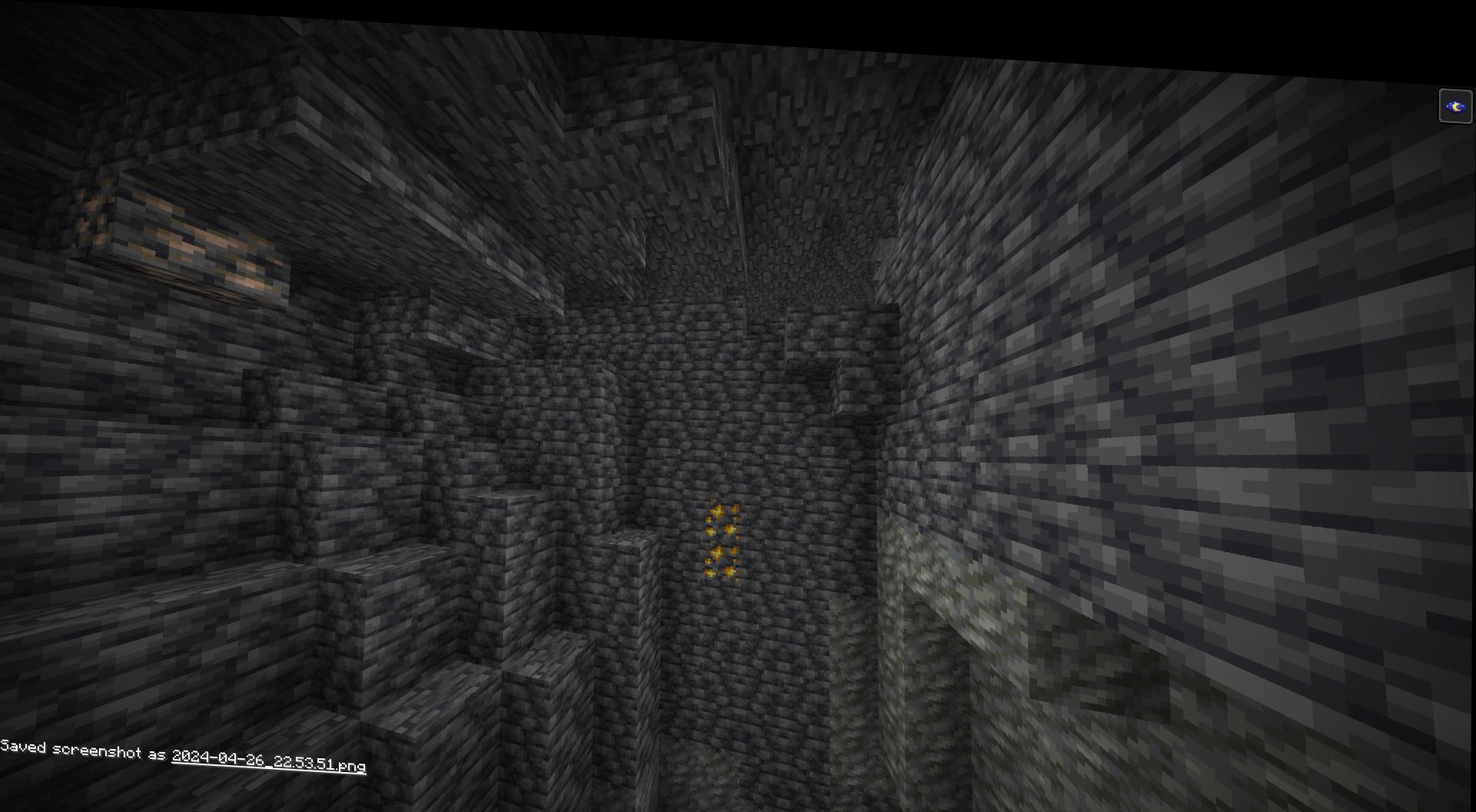gold ore: (703, 531, 743, 572), (708, 490, 741, 528)
iron ore: (117, 186, 288, 298), (63, 178, 120, 248)
